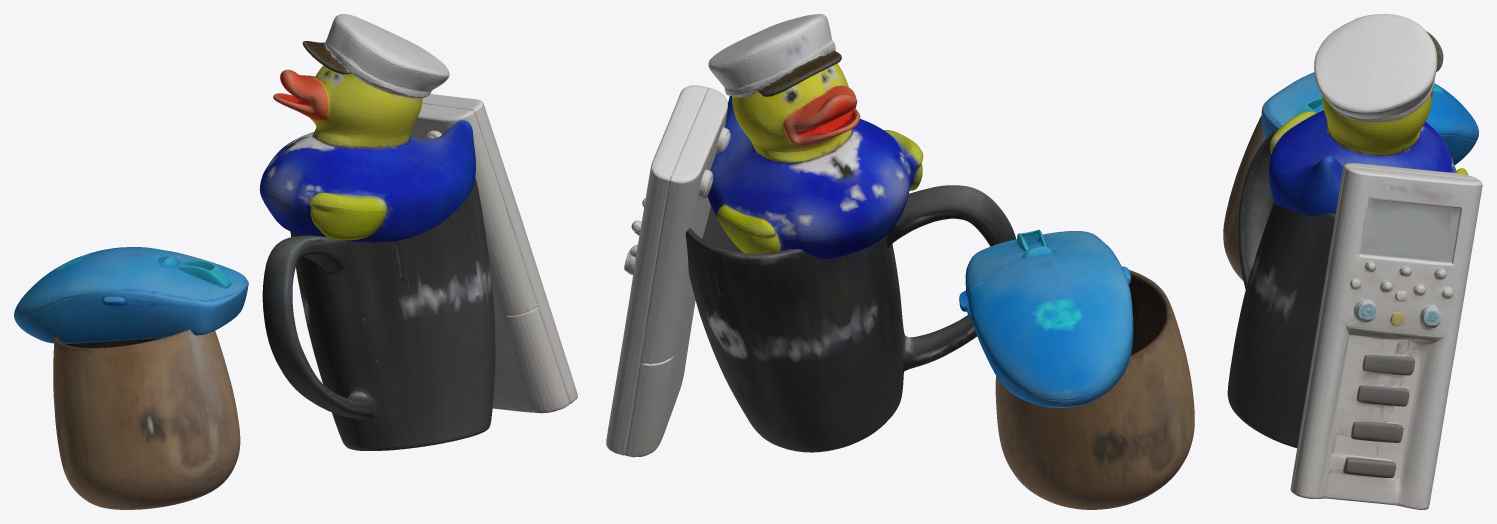
File: sam3d.glb
The picture shows the model from 3 angles, left to right: view 1: azimuth 30°, elevation 25°; view 2: azimuth 150°, elevation 25°; view 3: azimuth 270°, elevation 25°; orthographic projection. The views are drawn at different scales.
Visible parts, largest first — view 1: object_04, object_03, object_02, object_00, object_01; view 2: object_04, object_03, object_02, object_00, object_01; view 3: object_01, object_03, object_04, object_00, object_02.
Part boxes in pixels (x1,y1,x2,y2): object_04: (262, 177, 495, 450); object_03: (259, 14, 475, 242); object_02: (53, 329, 240, 509); object_00: (14, 247, 248, 343); object_01: (409, 94, 577, 413); object_04: (685, 185, 1016, 452); object_03: (707, 14, 923, 258); object_02: (995, 270, 1194, 509); object_00: (959, 229, 1133, 407); object_01: (606, 85, 730, 457); object_01: (1290, 163, 1482, 509); object_03: (1269, 14, 1468, 215); object_04: (1227, 128, 1335, 448); object_00: (1261, 72, 1478, 165); object_02: (1223, 115, 1266, 280).
Size of the model in its own units: 1.18 by 0.942 by 0.5262.
